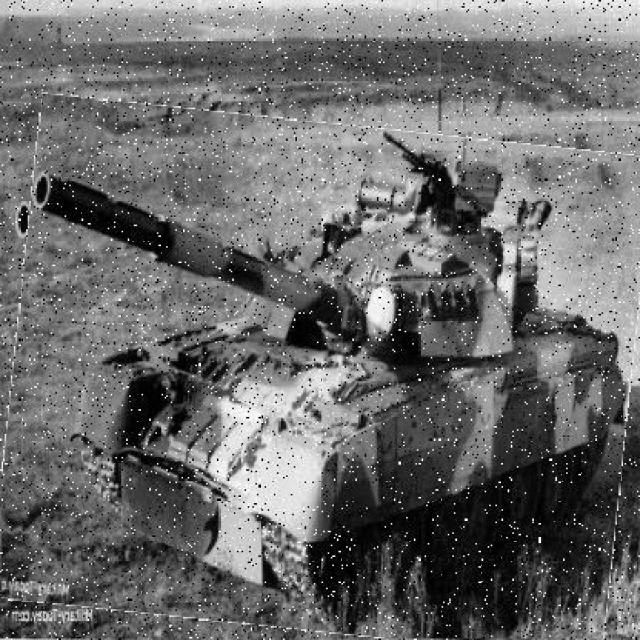Tank: (2, 107, 640, 639)
